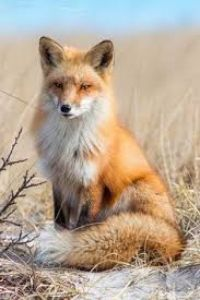fox: (27, 31, 190, 273)
